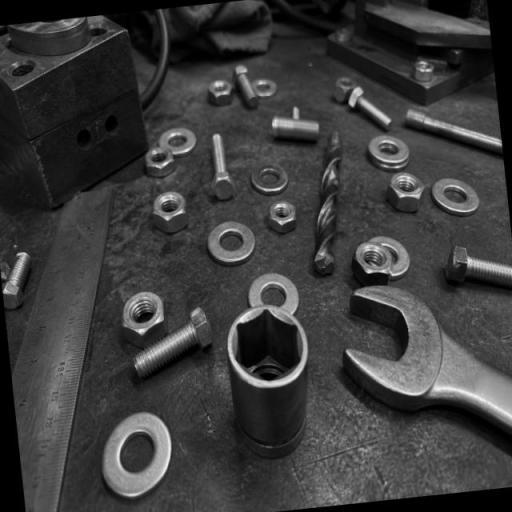Bolt: (132, 307, 213, 382), (404, 108, 505, 156), (443, 245, 512, 290), (337, 77, 394, 130), (210, 132, 235, 202), (2, 251, 31, 310), (234, 64, 260, 110)
Nut: (120, 291, 168, 348), (353, 243, 394, 286), (384, 171, 424, 214), (151, 190, 189, 234), (144, 146, 175, 179), (269, 200, 297, 234), (207, 78, 233, 106)
Washer: (100, 410, 174, 501), (247, 272, 300, 322), (206, 220, 256, 265), (430, 176, 481, 216), (369, 235, 412, 281), (366, 133, 411, 171), (158, 126, 198, 157), (250, 164, 290, 194), (251, 77, 278, 99)
